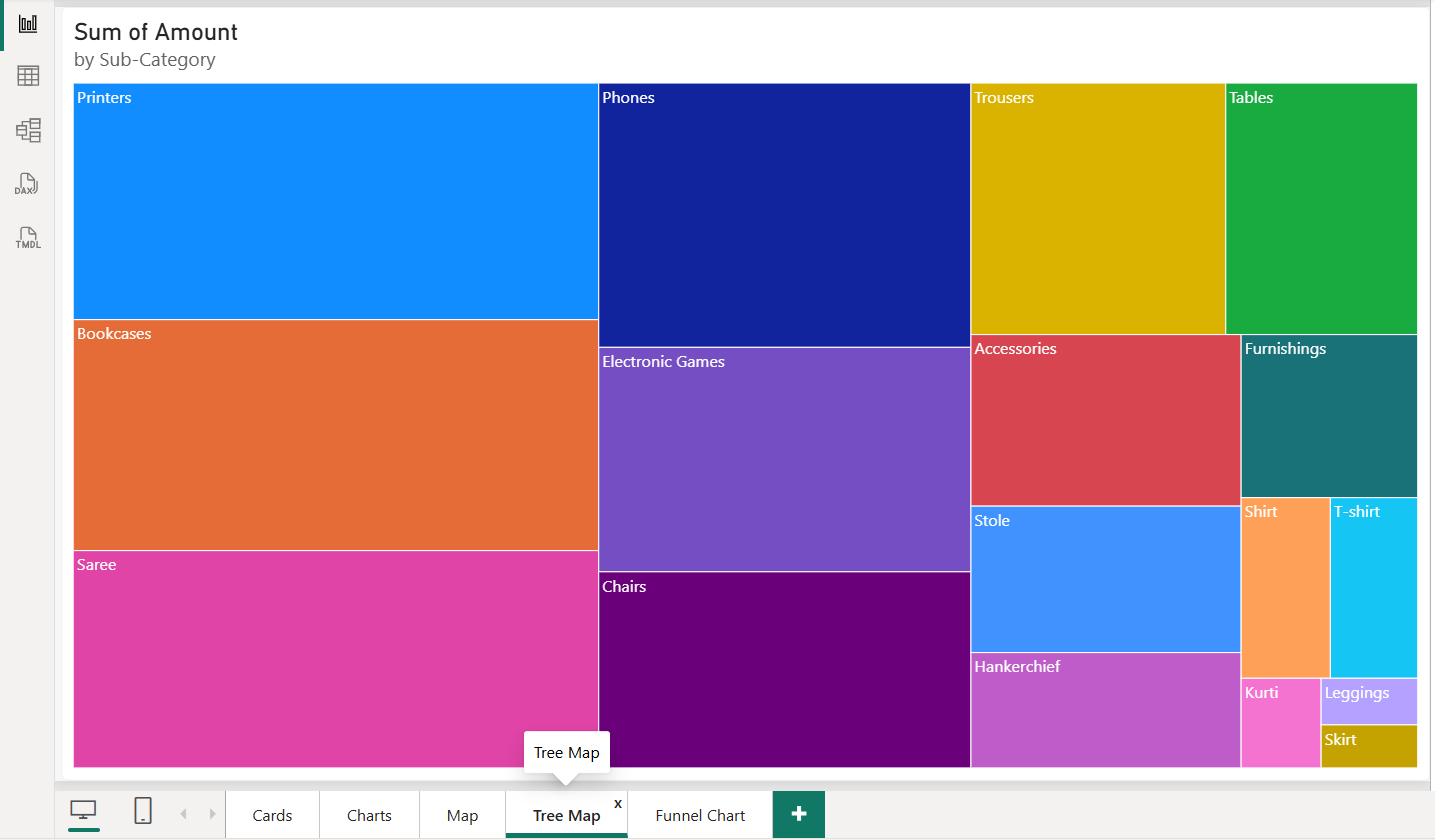

Layout of this report page (visuals, bound fields, positions):
{"tool":"powerbi","page":{"name":"Tree Map","canvas":[1920,1080],"ordinal":3},"visuals":[{"type":"treemap","fields":{"Group":["Order Details.Sub-Category"],"Values":["Sum(Order Details.Amount)"]},"box":[9,0,1910.4,1079.4],"z":0}]}

Visuals, with their boxes on the page's 1920x1080 design canvas (x1, y1, x2, y2). These are canvas units, not pixel positions in the 1435x840 screenshot, which may show the page scaled, cropped or inside an application window:
treemap - Order Details.Sub-Category x Sum(Order Details.Amount): (9,0,1919,1079)
